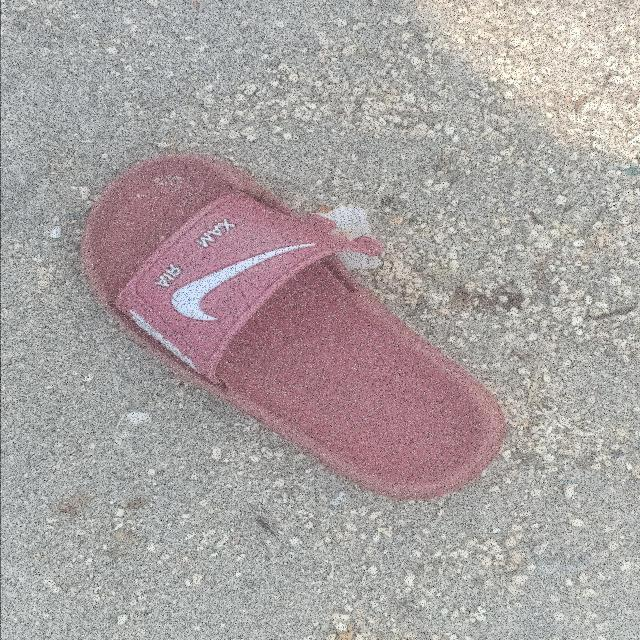rubber_waste: (77, 153, 509, 503)
